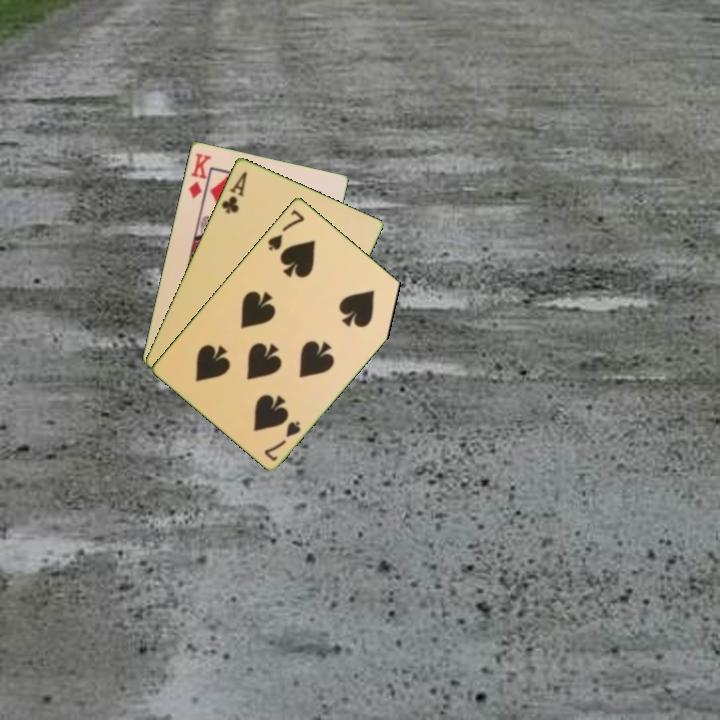7s: (260, 417, 304, 464), (264, 205, 307, 253)
Ac: (217, 167, 250, 216)
Kd: (185, 149, 214, 201)
